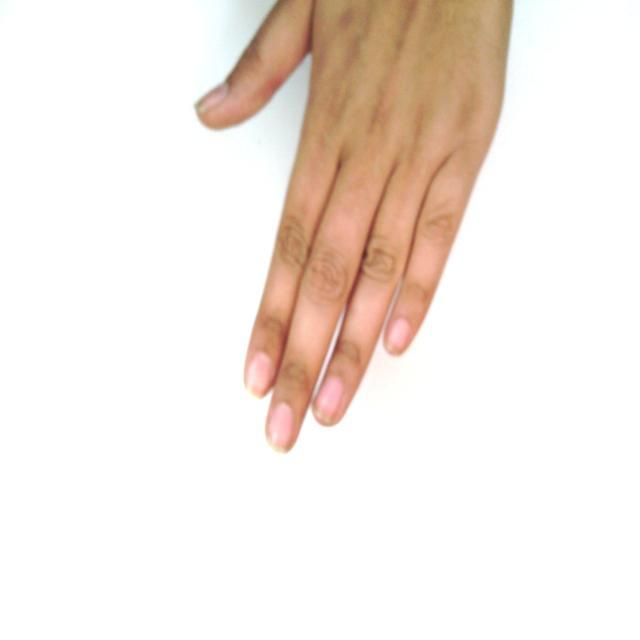Fingernail: (315, 377, 343, 426), (268, 403, 294, 452), (248, 354, 273, 395), (387, 319, 412, 355), (196, 85, 228, 113)
